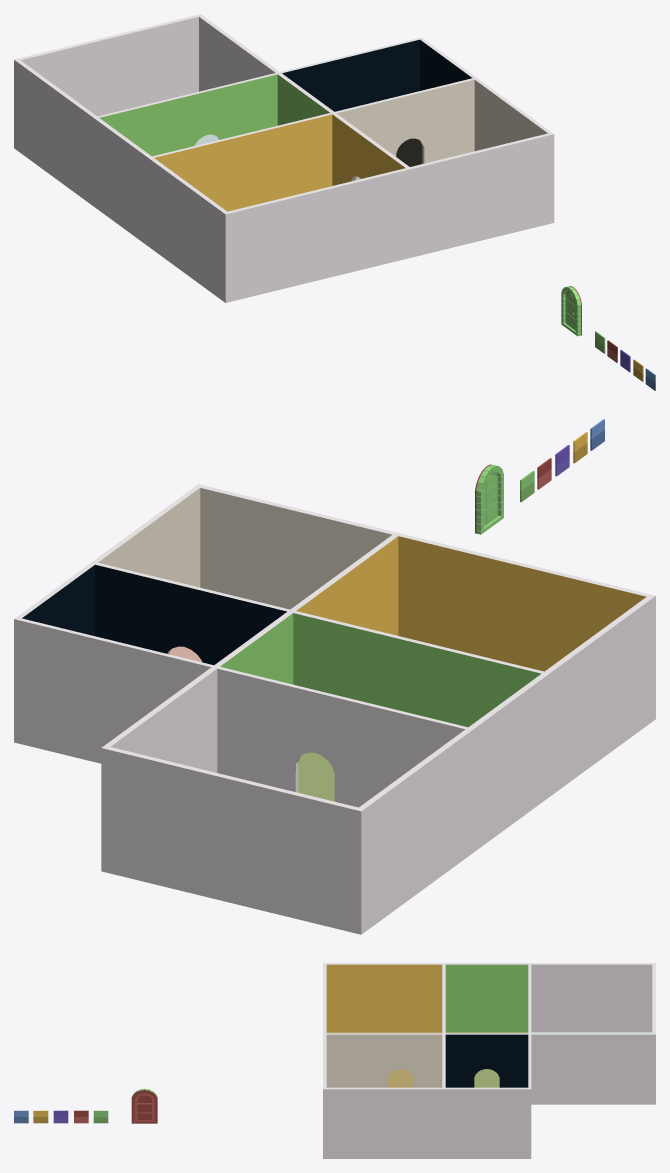
The model's file is portfolio.glb.
3 renders of one model, top to bottom at view 1: azimuth 30°, elevation 25°; view 2: azimuth 150°, elevation 25°; view 3: azimuth 270°, elevation 25°, orthographic. The views are drawn at different scales.
Visible parts, largest first — view 1: Building, Parent_frame; view 2: Building, Parent_frame; view 3: Building, Parent_frame, Door.
Boxes of the visible parts, x1,y1,x2,y2 form: Building: (14,14,554,302); Parent_frame: (561,286,581,336); Building: (14,484,655,934); Parent_frame: (475,464,503,534); Building: (323,963,655,1158); Parent_frame: (131,1088,157,1123); Door: (137,1095,151,1120).
Bounding box in the file's own units: 22.87 × 5.96 × 49.17.
